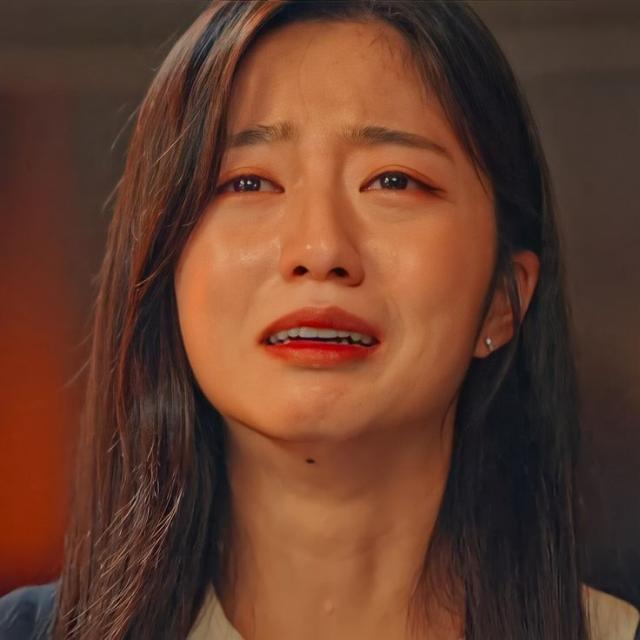sem_oculos: (117, 111, 506, 202)
